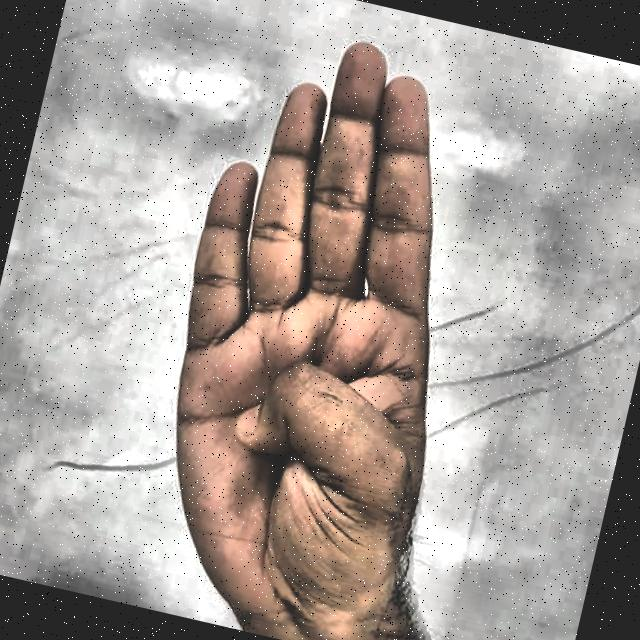Ba: (84, 0, 575, 640)
